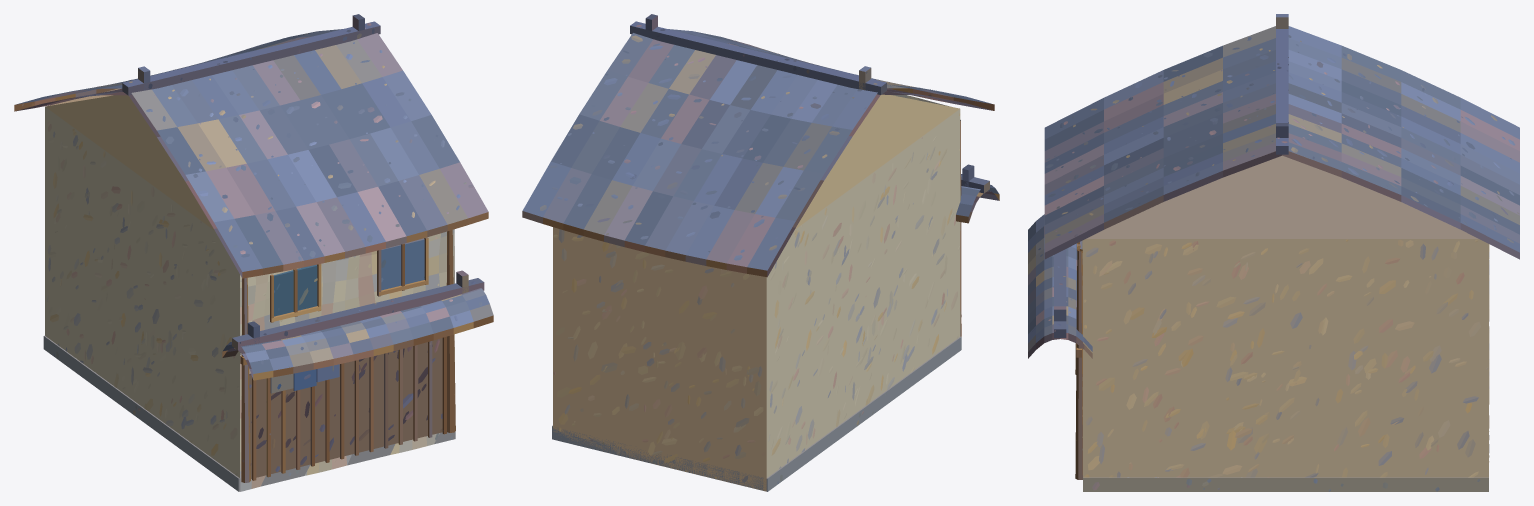
The model's file is HK_Machiya_A_Narrow.glb.
3 views of the same model, side by side, from view 1: azimuth 30°, elevation 25°; view 2: azimuth 150°, elevation 25°; view 3: azimuth 270°, elevation 25° (orthographic). The views are drawn at different scales.
Visible parts, largest first — view 1: HK_Machiya_A_Narrow; view 2: HK_Machiya_A_Narrow; view 3: HK_Machiya_A_Narrow.
Part boxes in pixels (x1,y1,x2,y2): HK_Machiya_A_Narrow: [14, 14, 493, 491]; HK_Machiya_A_Narrow: [522, 14, 999, 491]; HK_Machiya_A_Narrow: [1028, 14, 1519, 491].
Bounding box in the file's own units: 6.35 × 8.47 × 10.3.
